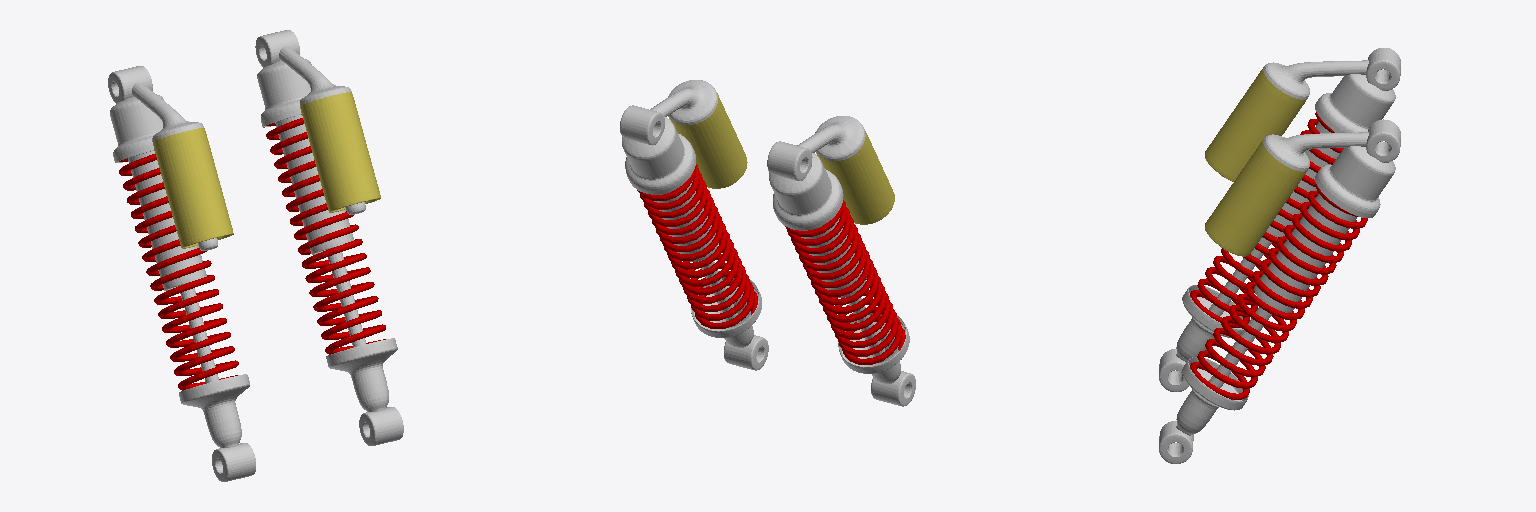
Rendered from CB400SF_RearSuspension.obj.
The picture shows the model from 3 angles: view 1: azimuth 30°, elevation 25°; view 2: azimuth 150°, elevation 25°; view 3: azimuth 270°, elevation 25°; orthographic projection.
Parts seen in each view (by area): view 1: Amortizator.001; view 2: Amortizator.001; view 3: Amortizator.001.
Part boxes in pixels (x1,y1,x2,y2): Amortizator.001: (108,30,403,481); Amortizator.001: (620,80,915,406); Amortizator.001: (1159,48,1400,463).
Bounding box in the file's own units: 29.64 × 44.92 × 29.69.